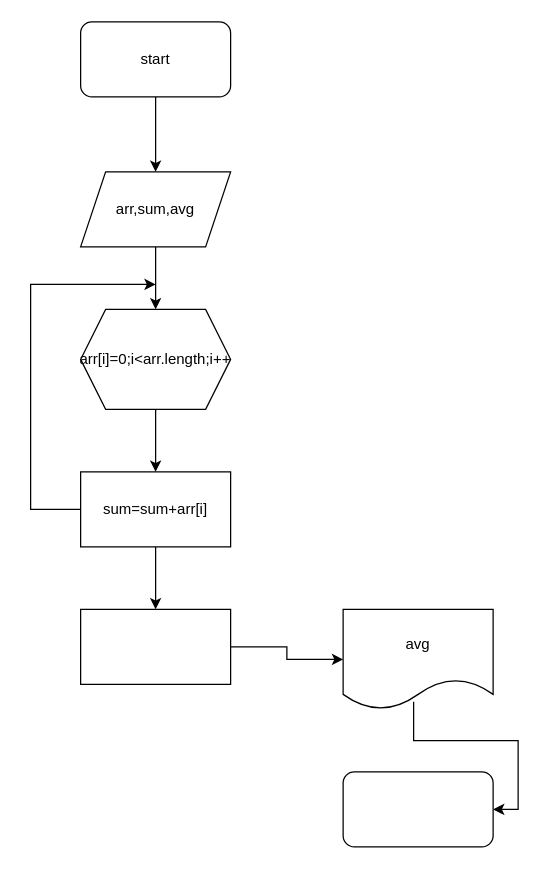
Some shapes in this 550 by 869 pixel diagram are drawn without their labels. Each missing label, with the centre of its shape:
"avg=sum/arr.length" goes at (155,646).
"end" goes at (417,809).
